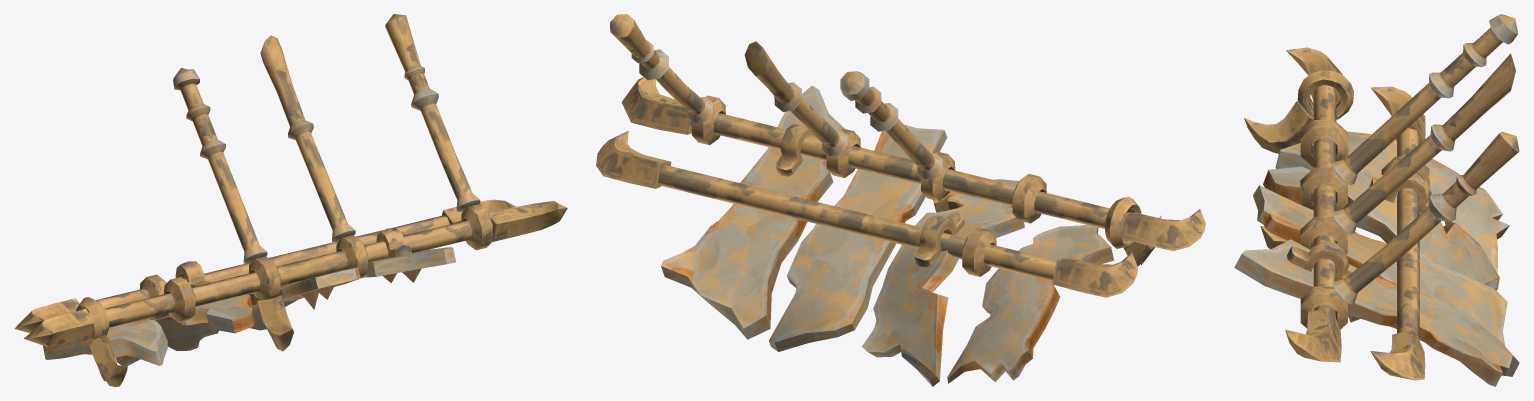
The model's file is HL_Barricade_B_DmgState_02_02.fbx.
The picture shows the model from 3 angles, left to right: view 1: azimuth 30°, elevation 25°; view 2: azimuth 150°, elevation 25°; view 3: azimuth 270°, elevation 25°; orthographic projection. The views are drawn at different scales.
Parts seen in each view (by area): view 1: HL_Barricade_B_DmgState_02_02; view 2: HL_Barricade_B_DmgState_02_02; view 3: HL_Barricade_B_DmgState_02_02.
Part boxes in pixels (x1,y1,x2,y2): HL_Barricade_B_DmgState_02_02: (14,14,567,386); HL_Barricade_B_DmgState_02_02: (596,14,1205,386); HL_Barricade_B_DmgState_02_02: (1234,14,1519,386).
Size of the model in its own units: 688 by 354 by 276.
